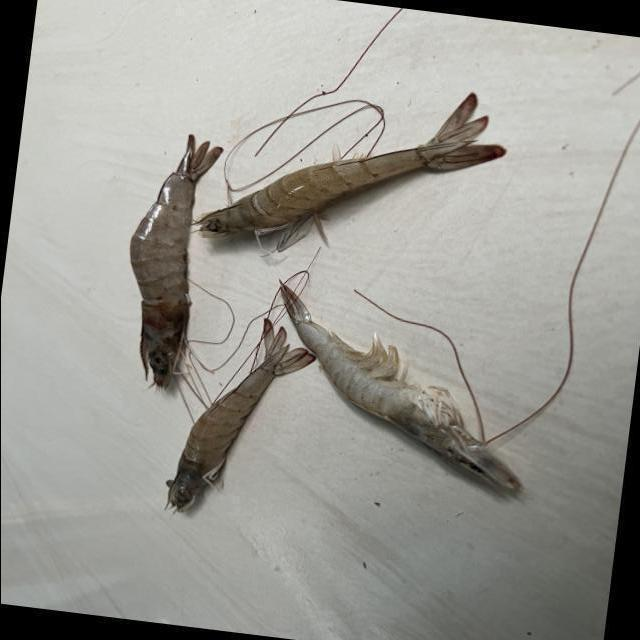shrimp: (279, 283, 520, 489), (193, 92, 506, 237), (165, 319, 314, 512), (128, 134, 221, 388)
